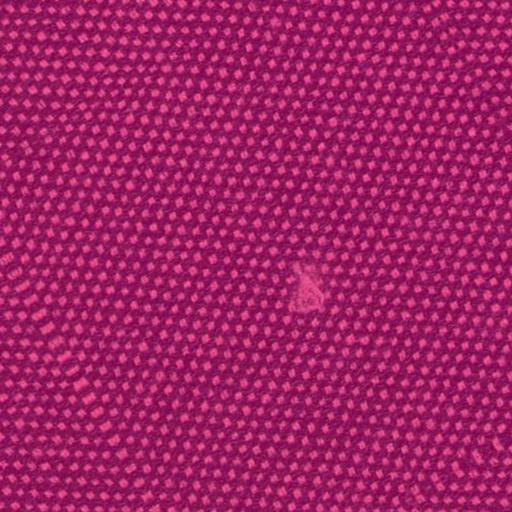knot: (274, 252, 339, 324)
